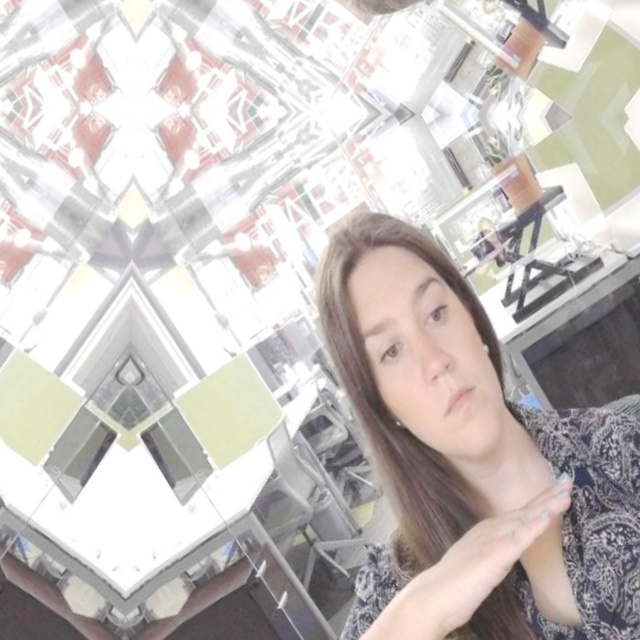Paper: (387, 443, 613, 640)
